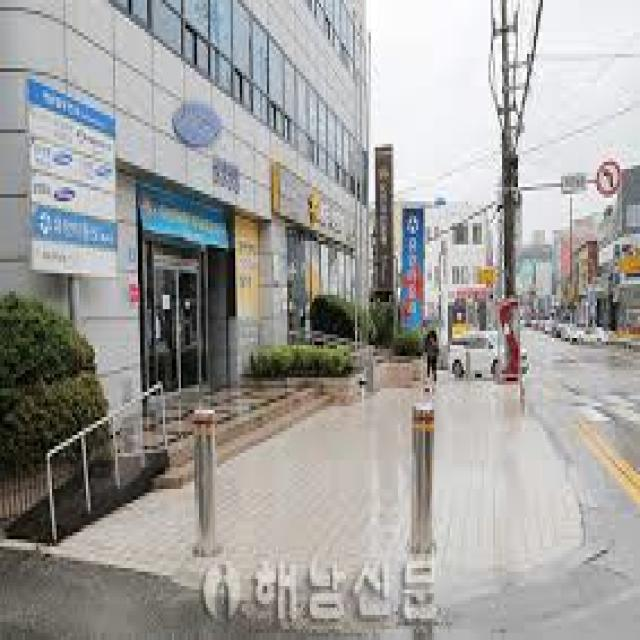bollard: (186, 398, 222, 562), (404, 386, 437, 560)
